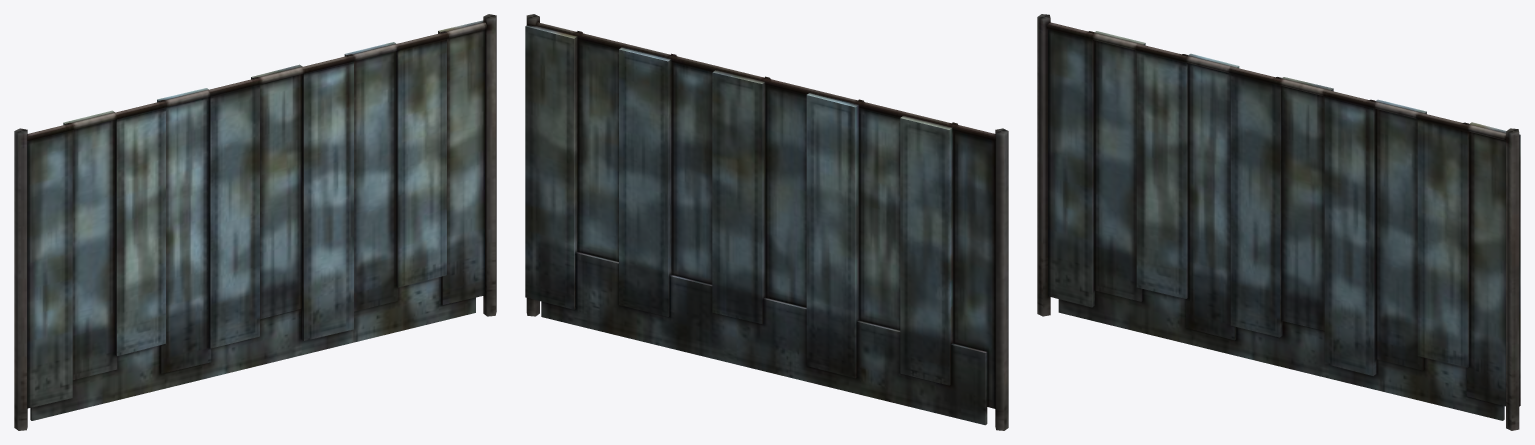
The model's file is div_lona.glb.
3 renders of one model, left to right at view 1: azimuth 30°, elevation 25°; view 2: azimuth 150°, elevation 25°; view 3: azimuth 330°, elevation 25°, orthographic.
Parts seen in each view (by area): view 1: div_lona; view 2: div_lona; view 3: div_lona.
Part boxes in pixels (box(x1,y1,x2,y2)): div_lona: box(14, 14, 496, 430); div_lona: box(525, 14, 1008, 430); div_lona: box(1037, 14, 1520, 430).
Bounding box in the file's own units: 1.95 × 1.15 × 0.0618.
Materials: 1 (1 with a texture image).
